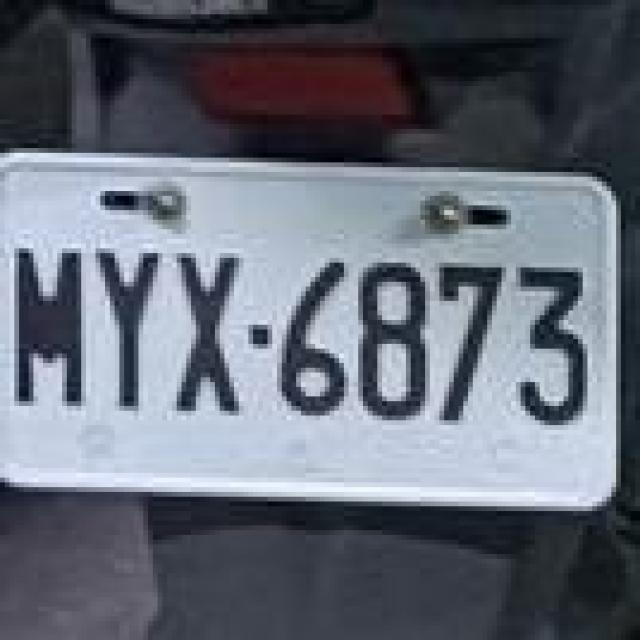W: (0, 146, 621, 514)
